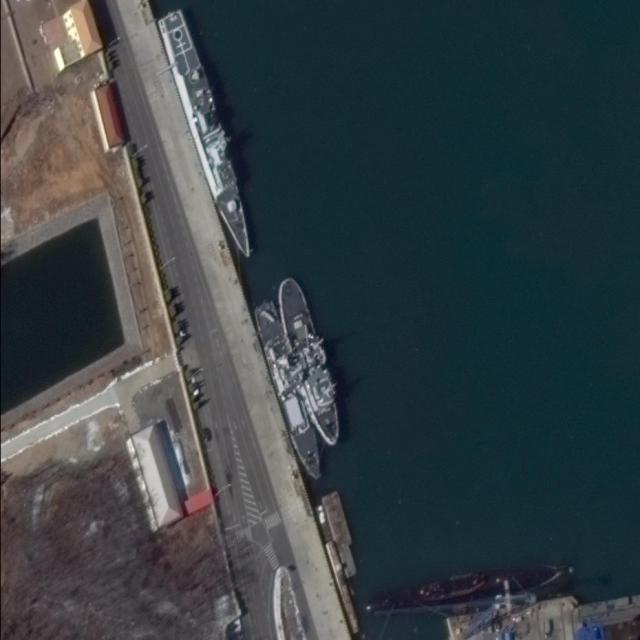Auxiliary Ships: (157, 7, 260, 266)
Other Warship: (250, 299, 329, 483), (273, 273, 350, 449)
Submarine: (355, 551, 582, 624)
